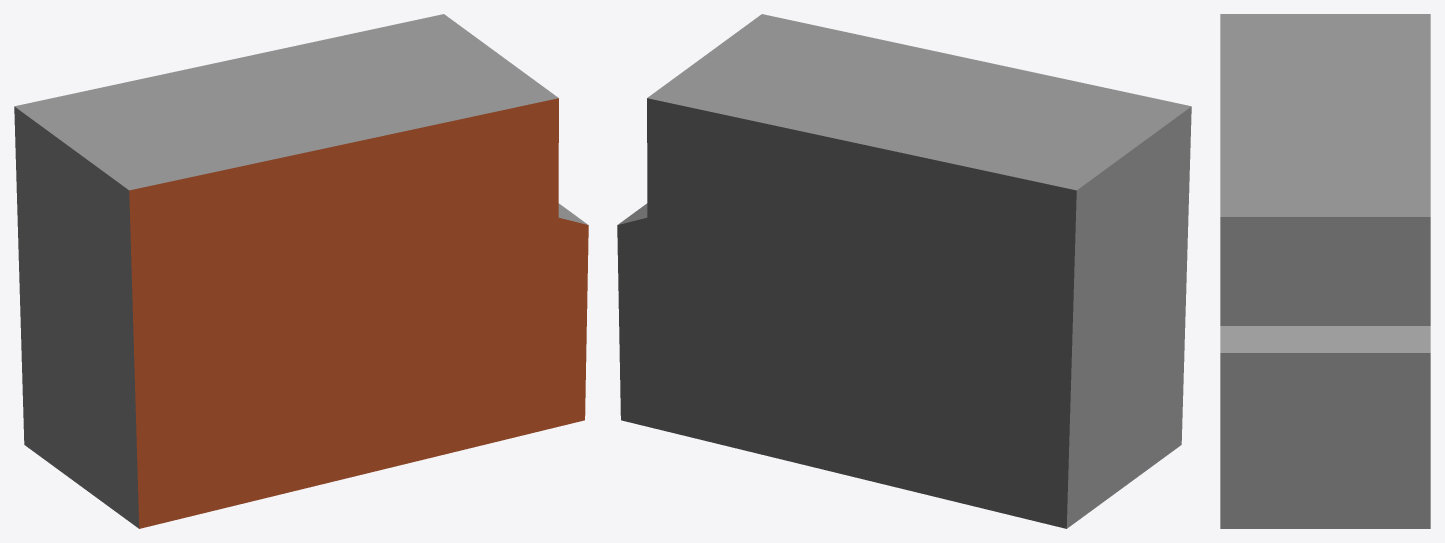
File: construction_2193_assumed_A_Casa_h6m.obj
3 views of the same model, side by side, from view 1: azimuth 30°, elevation 25°; view 2: azimuth 150°, elevation 25°; view 3: azimuth 270°, elevation 25° (orthographic). The views are drawn at different scales.
Visible parts, largest first — view 1: construction_2193_assumed_A_Casa; view 2: construction_2193_assumed_A_Casa; view 3: construction_2193_assumed_A_Casa.
Boxes of the visible parts, left/top/right/bottom form: construction_2193_assumed_A_Casa: left=14, top=14, right=588, bottom=528; construction_2193_assumed_A_Casa: left=617, top=14, right=1191, bottom=528; construction_2193_assumed_A_Casa: left=1220, top=14, right=1430, bottom=528.
Size of the model in its own units: 13.85 by 9.82 by 6.
